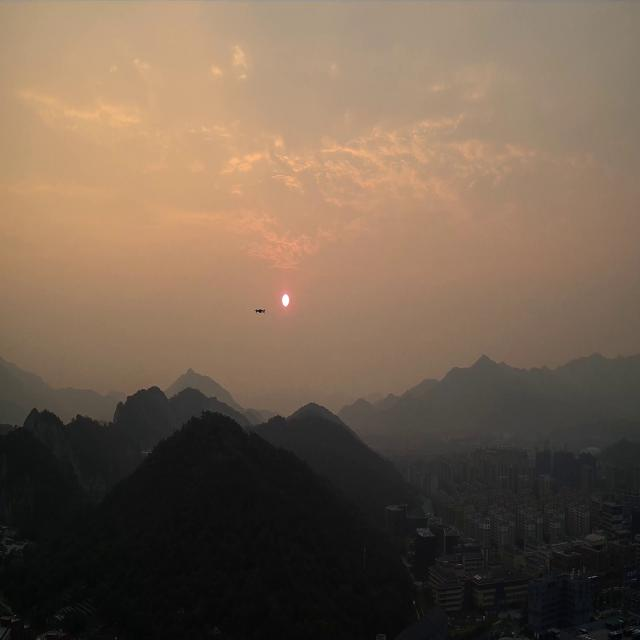drone: (254, 308, 267, 314)
